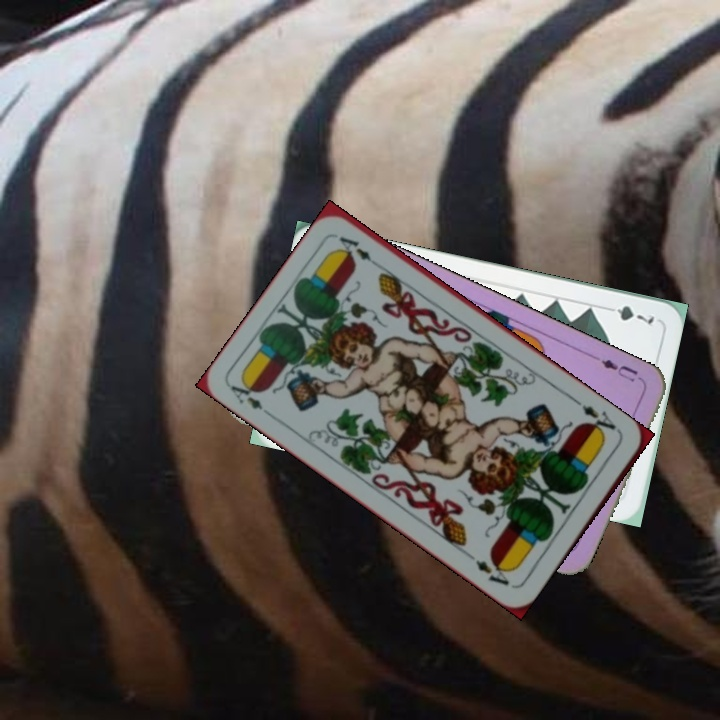EA: (226, 375, 277, 421), (572, 396, 624, 440)
EU: (591, 352, 646, 385)
G7: (600, 301, 657, 327)
